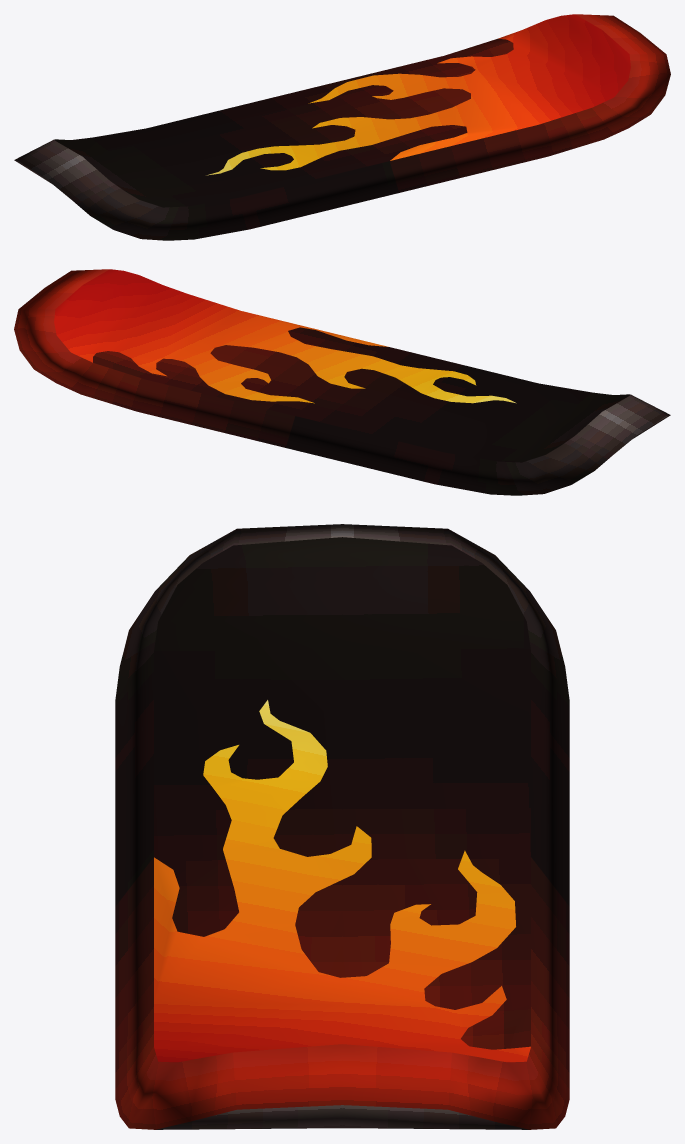
File: SkullFire.glb
3 renders of one model, top to bottom at view 1: azimuth 30°, elevation 25°; view 2: azimuth 150°, elevation 25°; view 3: azimuth 270°, elevation 25°, orthographic. The views are drawn at different scales.
Visible parts, largest first — view 1: SkullFire; view 2: SkullFire; view 3: SkullFire.
Boxes of the visible parts, x1,y1,x2,y2 form: SkullFire: (14, 14, 670, 240); SkullFire: (14, 269, 670, 495); SkullFire: (115, 524, 569, 1129).
Size of the model in its own units: 8.35 by 0.8366 by 2.76.
1 material, 1 textured.
